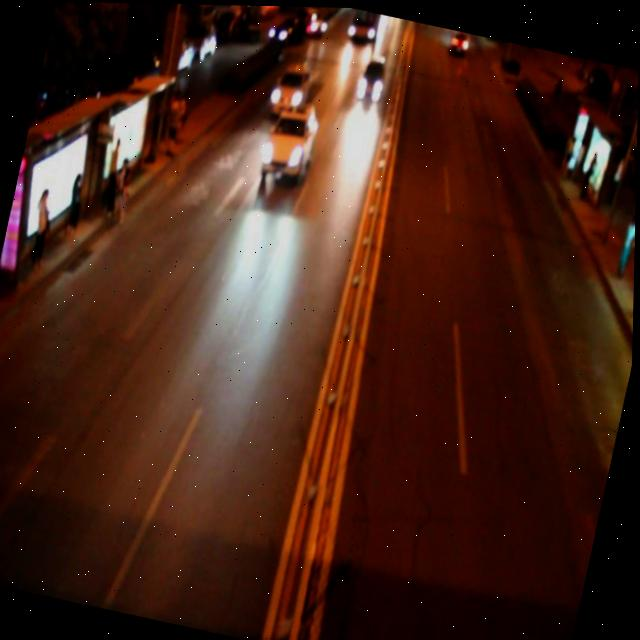car: (255, 96, 322, 187), (265, 56, 317, 123)
truck: (353, 50, 389, 106)
